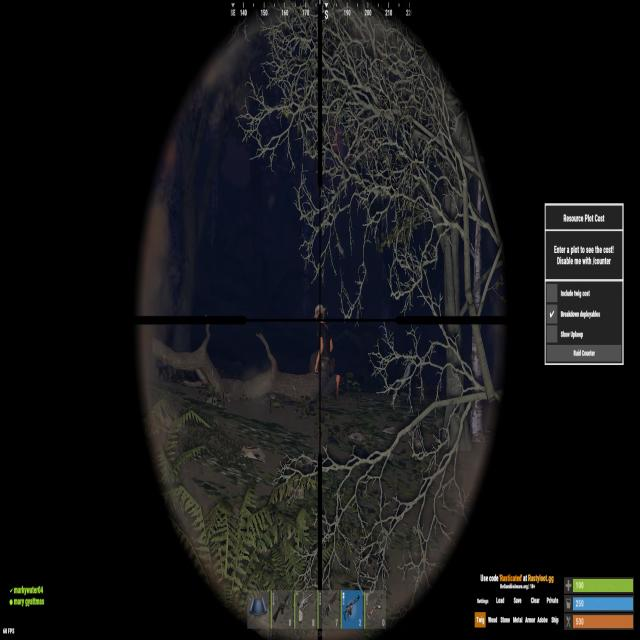Player: (310, 304, 341, 399)
